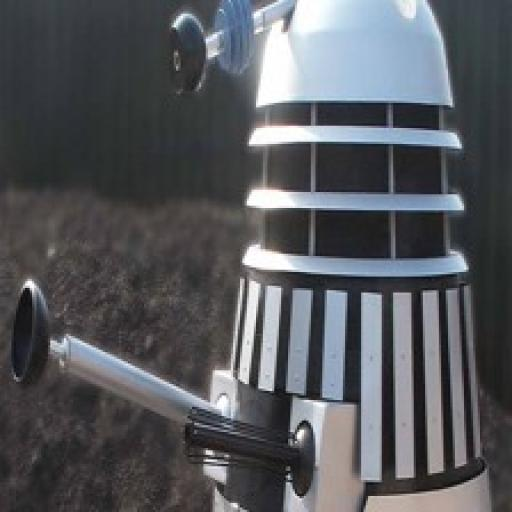dalek: (13, 0, 494, 512)
